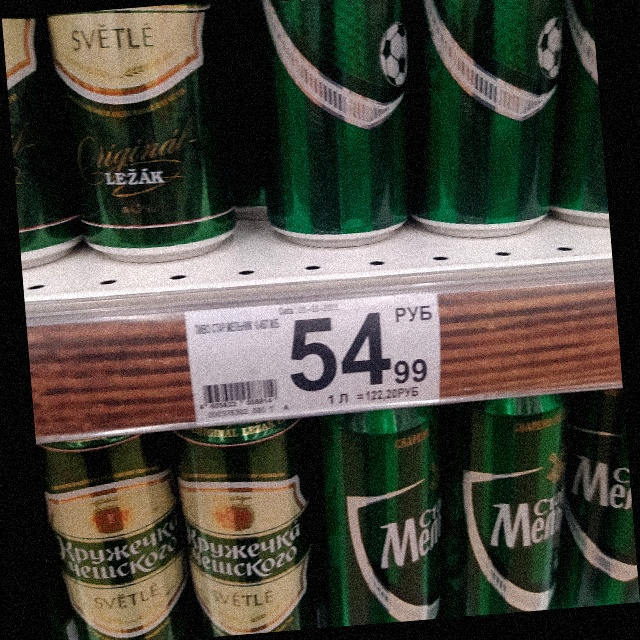barcode: (198, 377, 279, 411)
name: (192, 312, 281, 338)
price: (288, 310, 433, 395)
price_tag: (183, 290, 442, 427)
